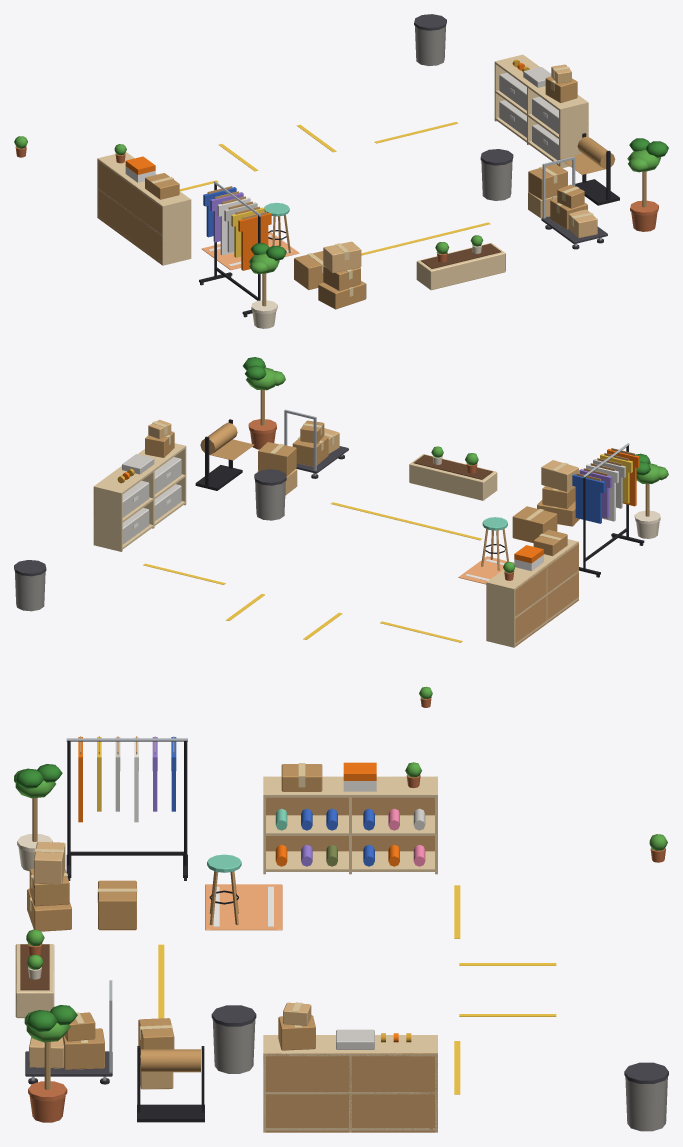
The model's file is einrichtung_werkstatt.glb.
The picture shows the model from 3 angles, top to bottom: view 1: azimuth 30°, elevation 25°; view 2: azimuth 150°, elevation 25°; view 3: azimuth 270°, elevation 25°; orthographic projection. The views are drawn at different scales.
Parts seen in each view (by area): view 1: einrichtung_werkstatt; view 2: einrichtung_werkstatt; view 3: einrichtung_werkstatt.
Part boxes in pixels (x1=…): einrichtung_werkstatt: x1=14, y1=14, x2=668, y2=328; einrichtung_werkstatt: x1=14, y1=357, x2=668, y2=707; einrichtung_werkstatt: x1=14, y1=736, x2=668, y2=1132.
Size of the model in its own units: 6.77 by 1.51 by 6.75.
